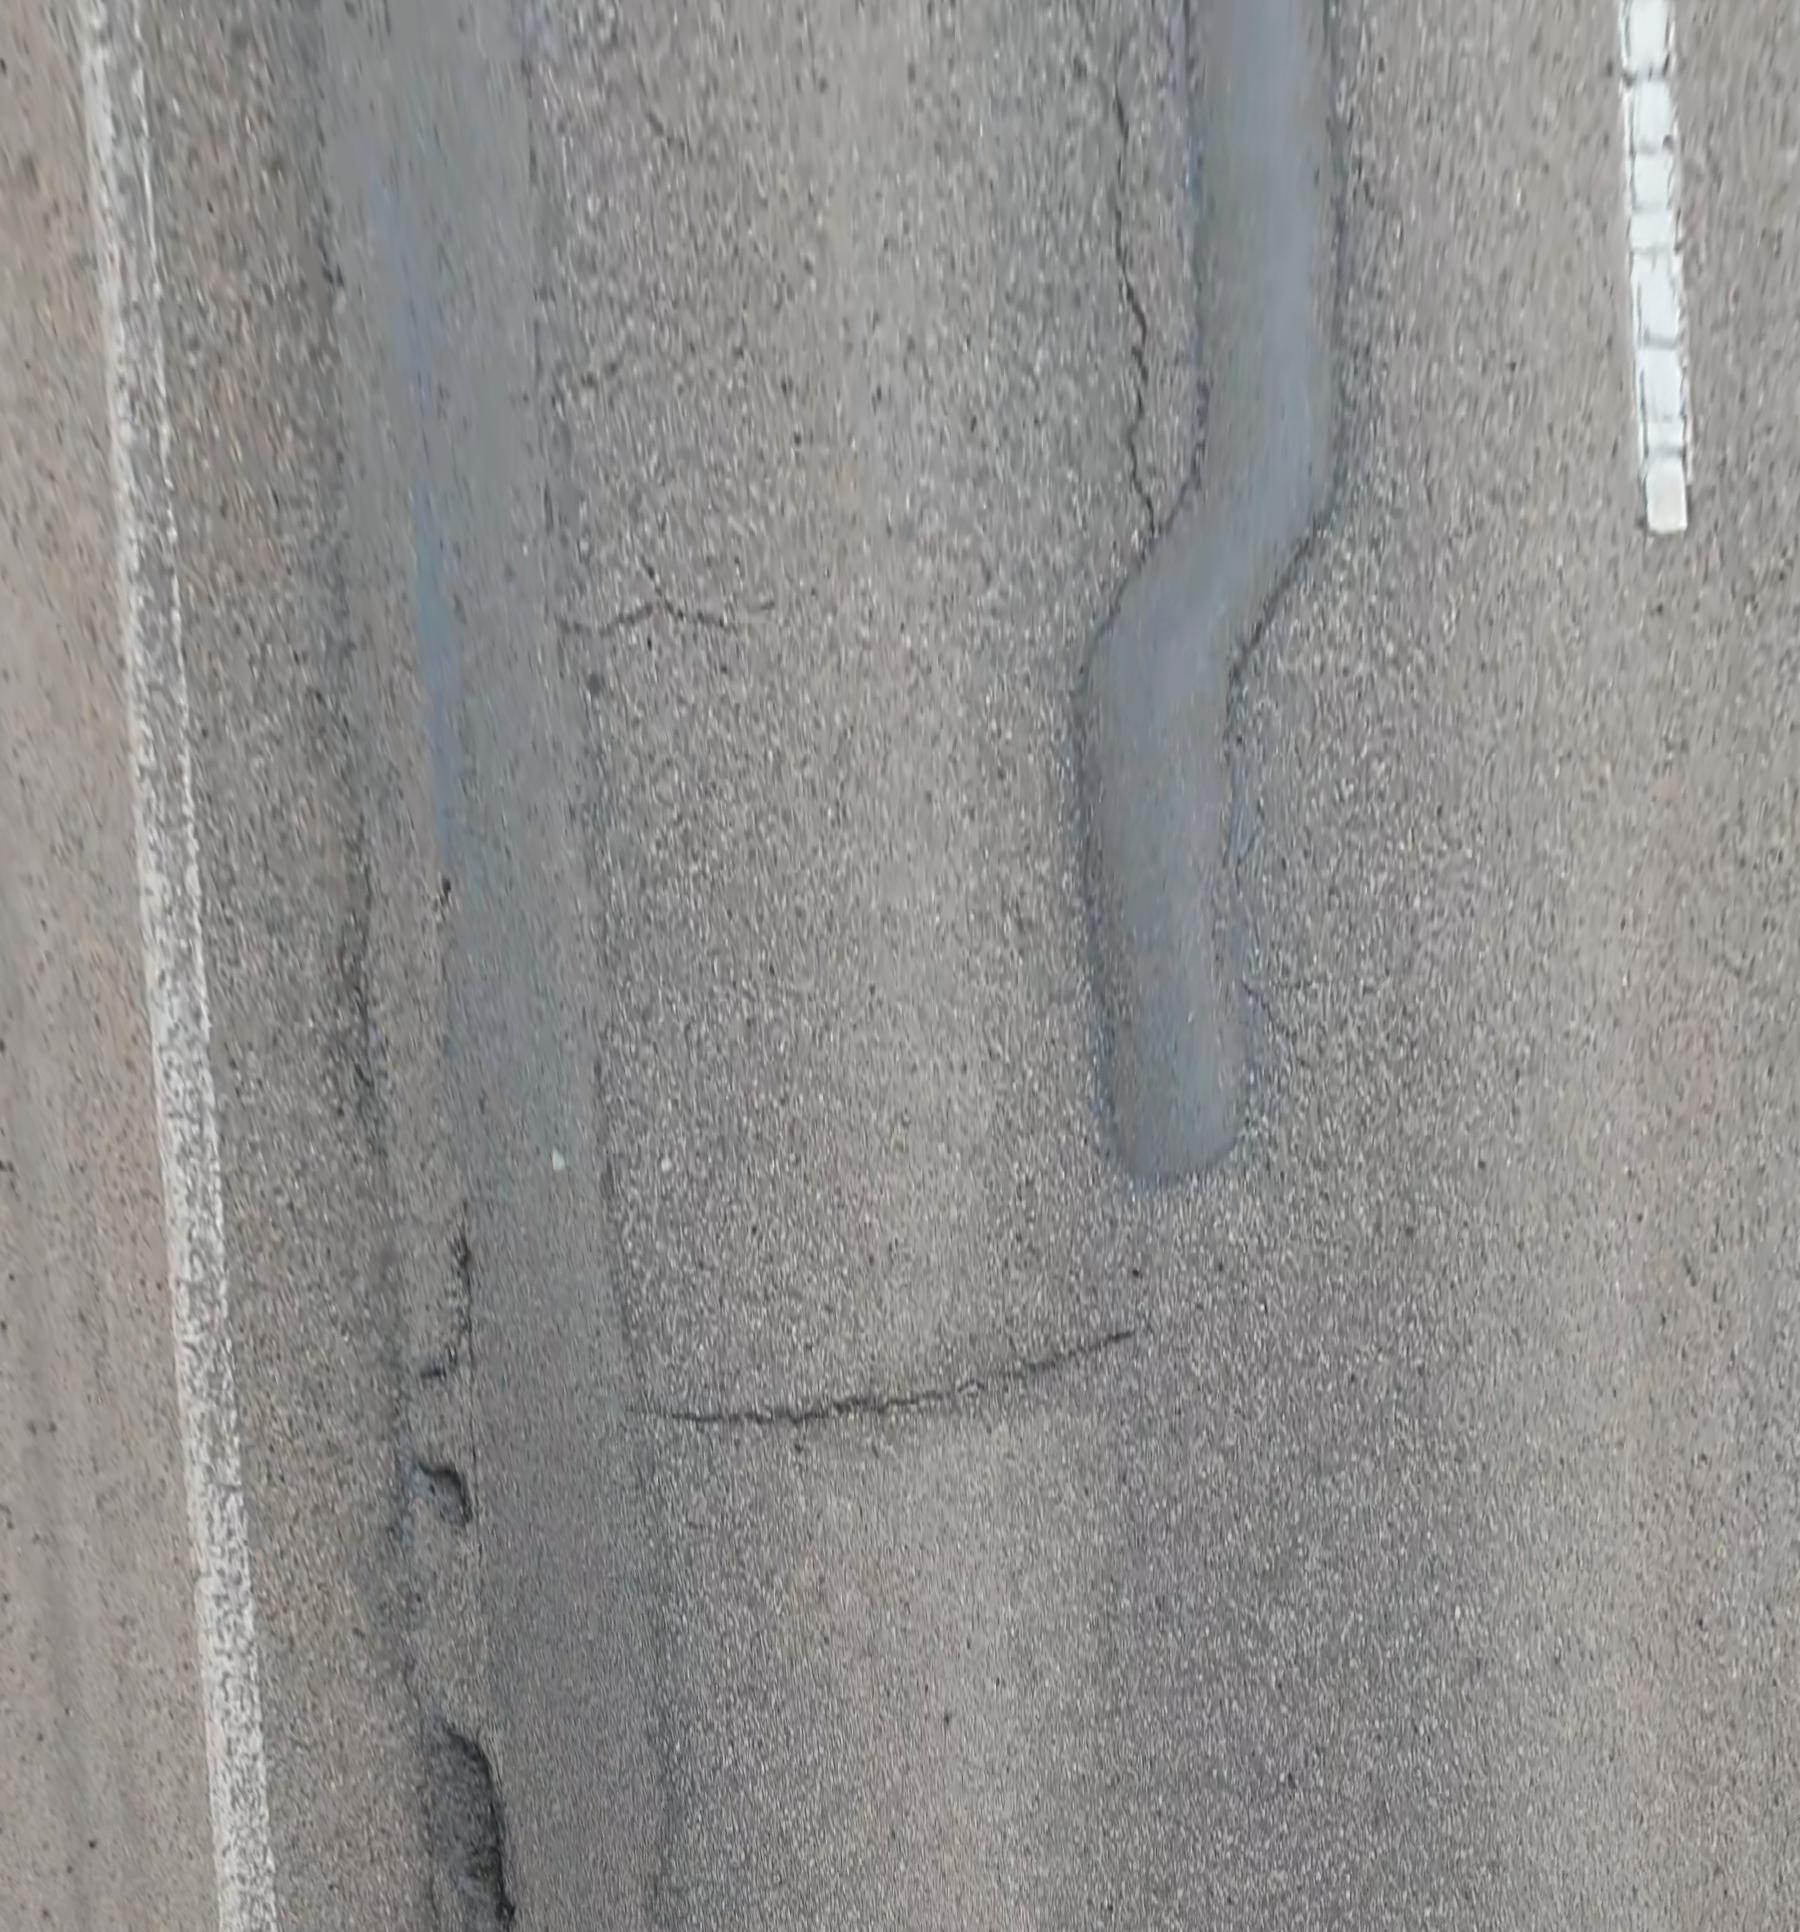pothole: (403, 1719, 519, 1930), (391, 1458, 475, 1533)
pothole_patch_good: (1084, 0, 1335, 1176)
pothole_patch_poor: (269, 0, 661, 1932)
